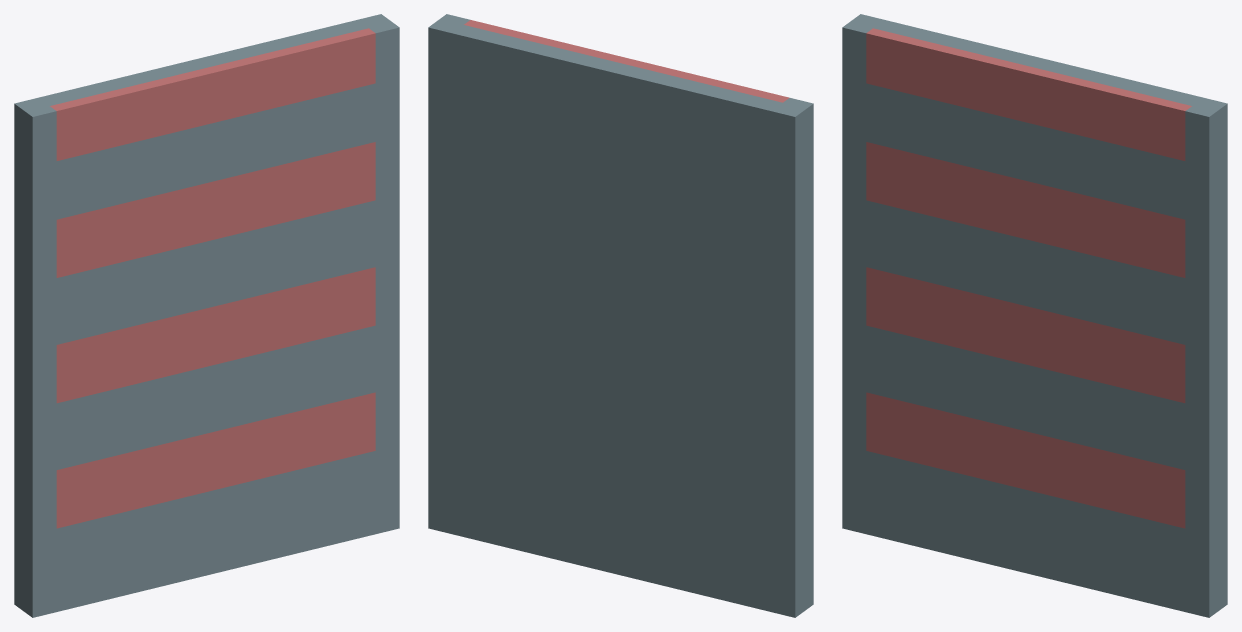
Rendered from step_02.glb.
3 views of the same model, side by side, from view 1: azimuth 30°, elevation 25°; view 2: azimuth 150°, elevation 25°; view 3: azimuth 330°, elevation 25° (orthographic).
Parts seen in each view (by area): view 1: part__lift gate panel, removed__lift gate panel; view 2: part__lift gate panel, removed__lift gate panel; view 3: part__lift gate panel, removed__lift gate panel.
Boxes of the visible parts, x1,y1,x2,y2 form: part__lift gate panel: (14,14,399,617); removed__lift gate panel: (50,28,375,528); part__lift gate panel: (428,14,813,617); removed__lift gate panel: (464,20,789,102); part__lift gate panel: (842,14,1227,617); removed__lift gate panel: (866,28,1191,528).
Bounding box in the file's own units: 4600 × 6000 × 400.
